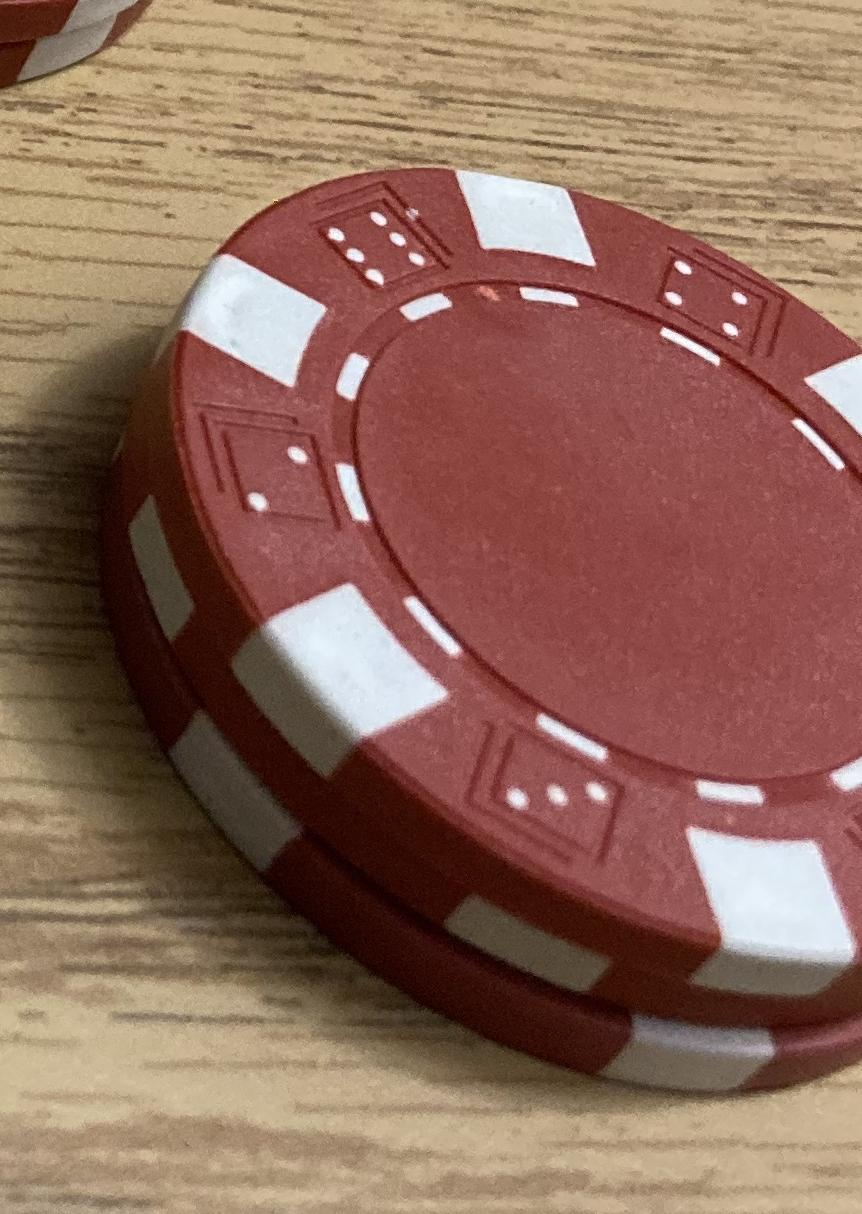Chip: (1, 1, 862, 1214)
